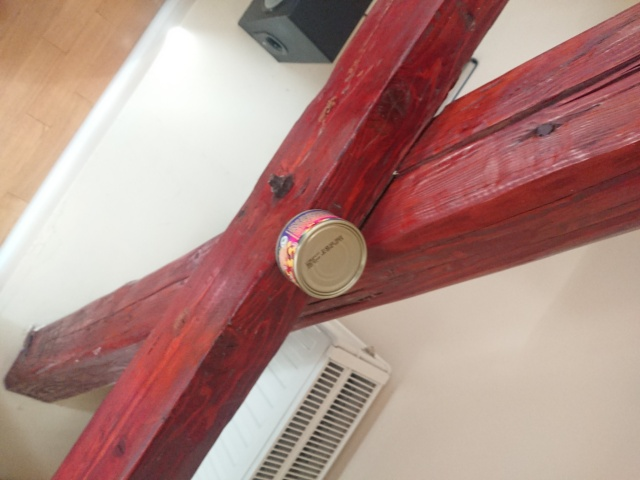Giana Tuna Salad Mexico 185g: (274, 207, 370, 302)
